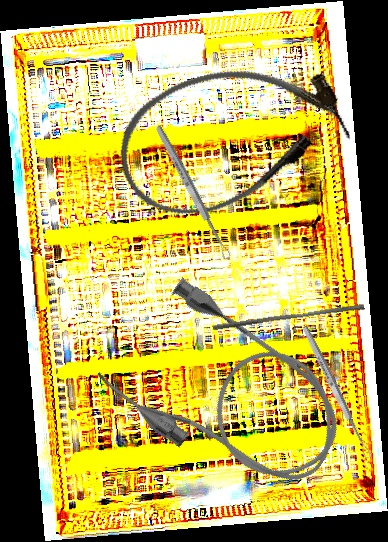Cannula: (89, 268, 365, 519), (101, 39, 362, 234)
Pusher: (212, 298, 365, 337)
Surgical Spoon: (153, 123, 233, 262), (300, 324, 373, 460)
